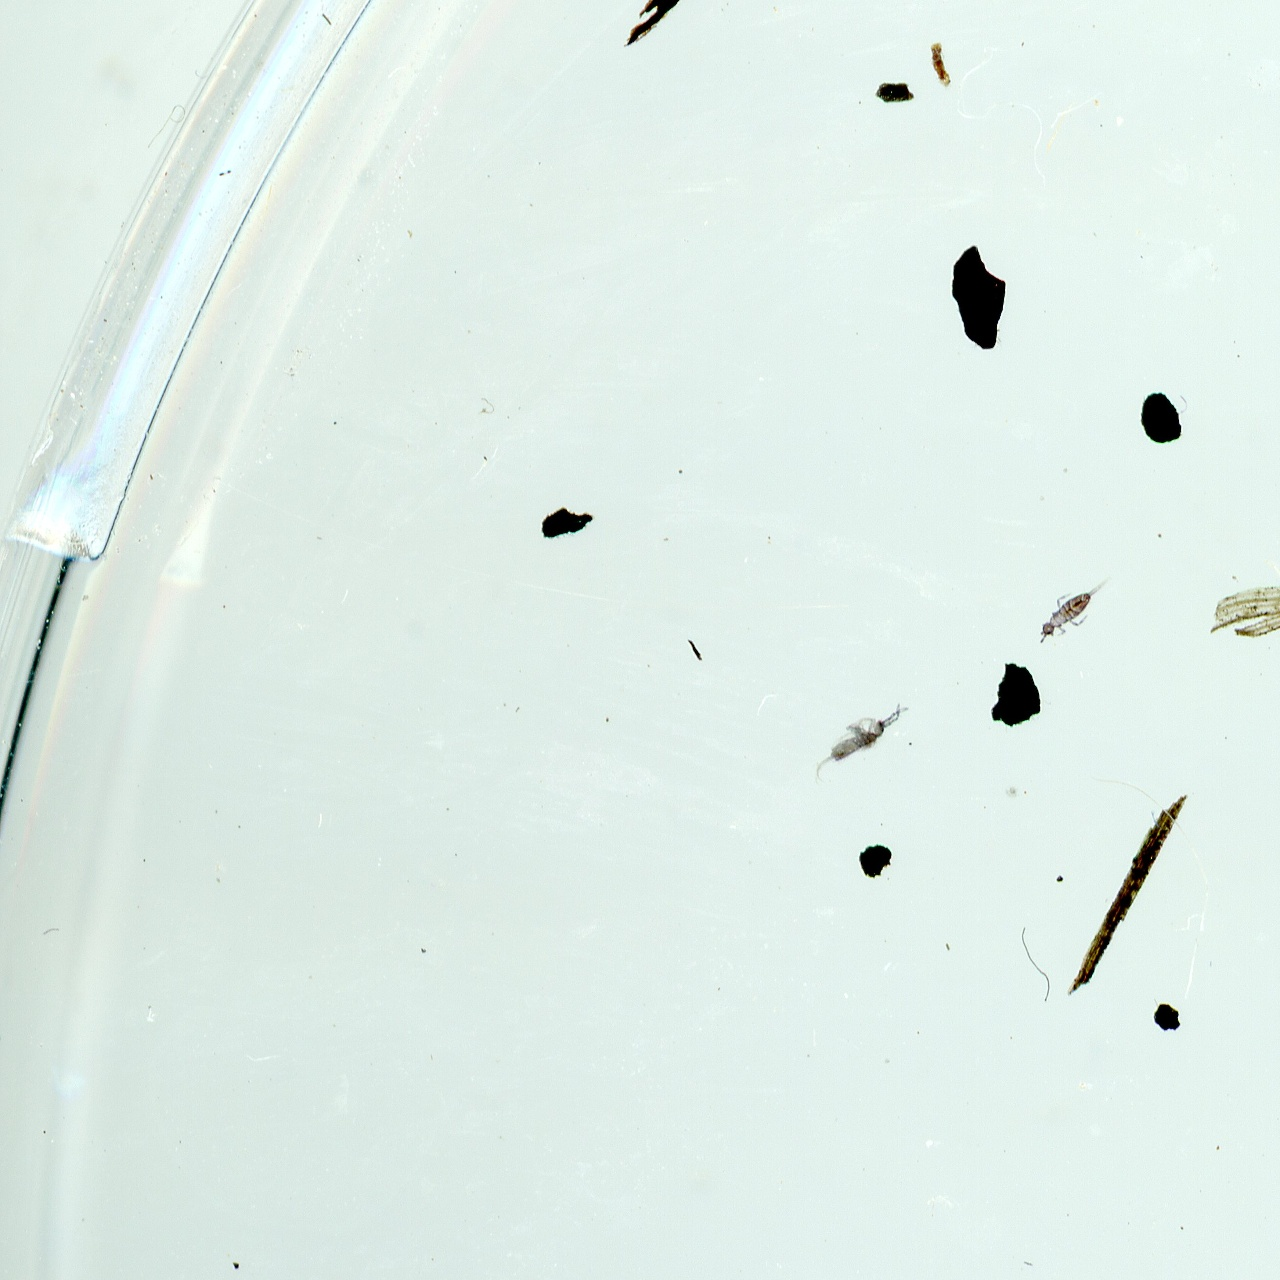arthropod: (789, 672, 919, 808), (1020, 546, 1131, 663)
